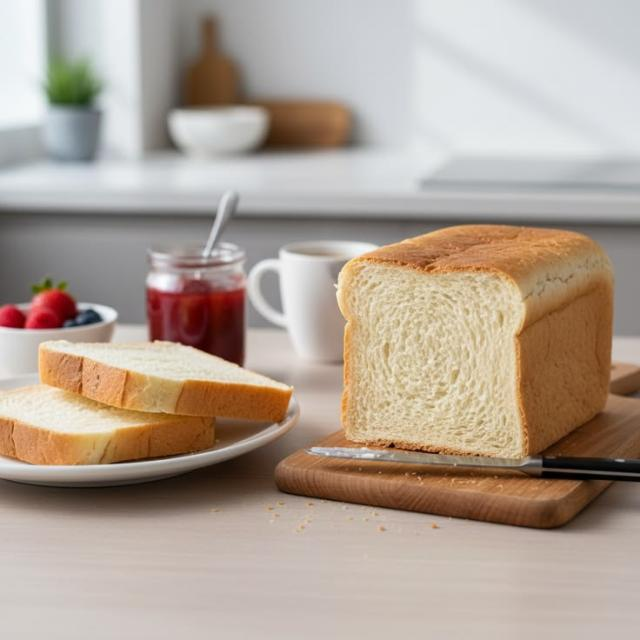bread: (337, 224, 613, 457)
sliced bread: (39, 341, 291, 420), (0, 386, 214, 464)
strawberry: (146, 242, 245, 364), (31, 288, 76, 322), (24, 308, 62, 329), (0, 305, 25, 327)
